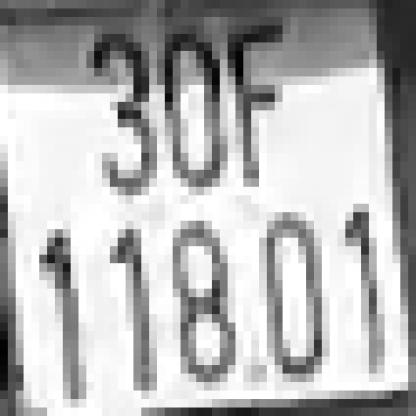0: (251, 204, 322, 365), (157, 34, 228, 187)
1: (102, 220, 173, 390), (39, 229, 102, 391), (330, 195, 376, 365)
3: (86, 34, 157, 204)
8: (172, 212, 235, 374)
F: (219, 17, 274, 178)
